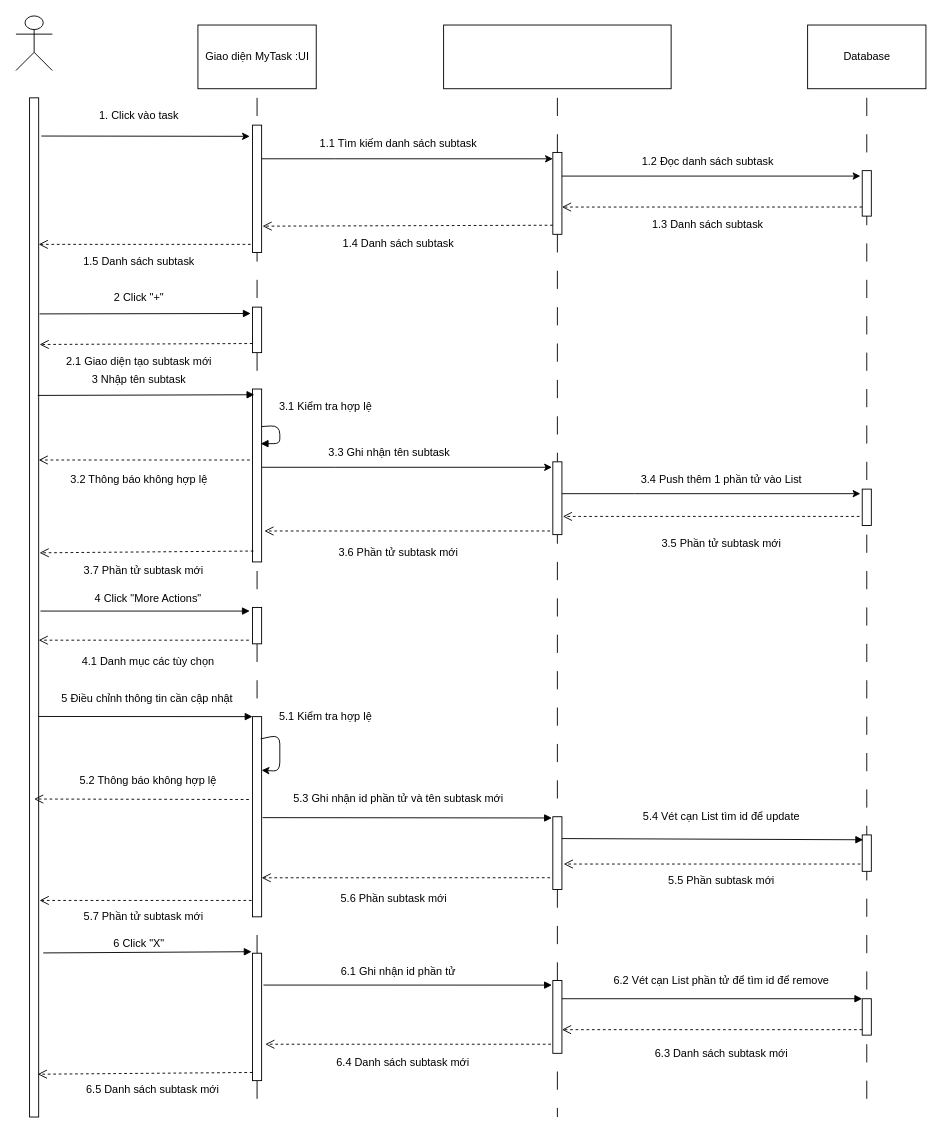
This 942x1133 diagram has some shape labels left out. Here are the shapes that lost their labels. From the top down, the centre of each, then its label:
point 33,43: Actor
point 557,56: Subtask:SubtaskController
